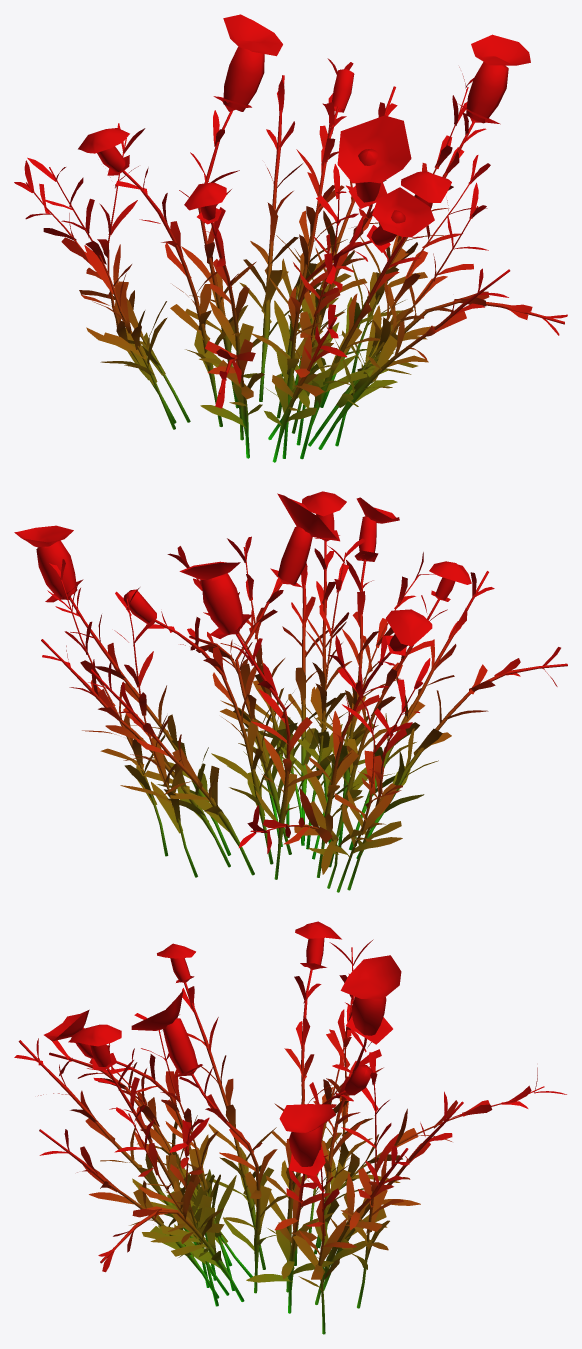
Rendered from Var7_LOD1.fbx.
3 views of the same model, one above another, from view 1: azimuth 30°, elevation 25°; view 2: azimuth 150°, elevation 25°; view 3: azimuth 270°, elevation 25° (orthographic). The views are drawn at different scales.
Visible parts, largest first — view 1: _4xl8_Var7_LOD1; view 2: _4xl8_Var7_LOD1; view 3: _4xl8_Var7_LOD1.
Part boxes in pixels (x1=…): _4xl8_Var7_LOD1: x1=14, y1=14, x2=567, y2=462; _4xl8_Var7_LOD1: x1=14, y1=491, x2=567, y2=892; _4xl8_Var7_LOD1: x1=14, y1=921, x2=566, y2=1334.
Size of the model in its own units: 36.93 by 27.68 by 40.73.
